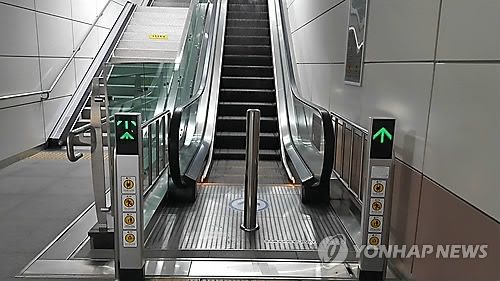escalator: (80, 78, 408, 271)
